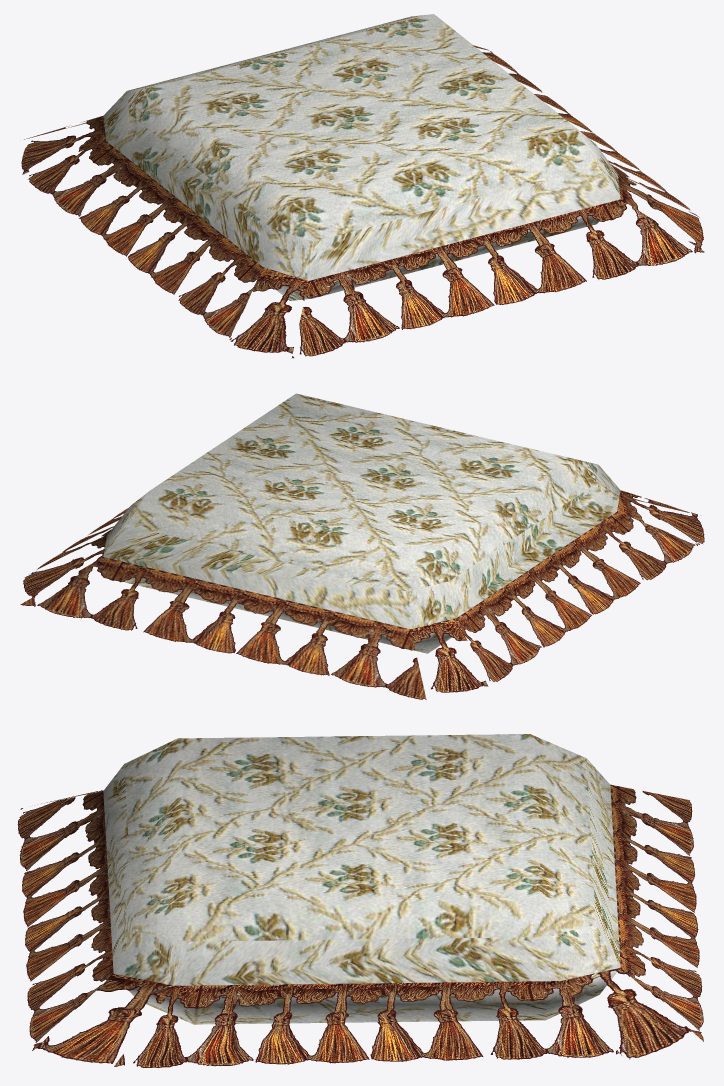
File: PIllow_Fringe.fbx
3 renders of one model, top to bottom at view 1: azimuth 30°, elevation 25°; view 2: azimuth 150°, elevation 25°; view 3: azimuth 270°, elevation 25°, orthographic. The views are drawn at different scales.
Parts seen in each view (by area): view 1: Pillow_Fringe; view 2: Pillow_Fringe; view 3: Pillow_Fringe.
Part boxes in pixels (x1=…): Pillow_Fringe: x1=21, y1=14, x2=704, y2=358; Pillow_Fringe: x1=20, y1=393, x2=704, y2=699; Pillow_Fringe: x1=17, y1=734, x2=703, y2=1067.
Bounding box in the file's own units: 90.88 × 18.9 × 93.26.
